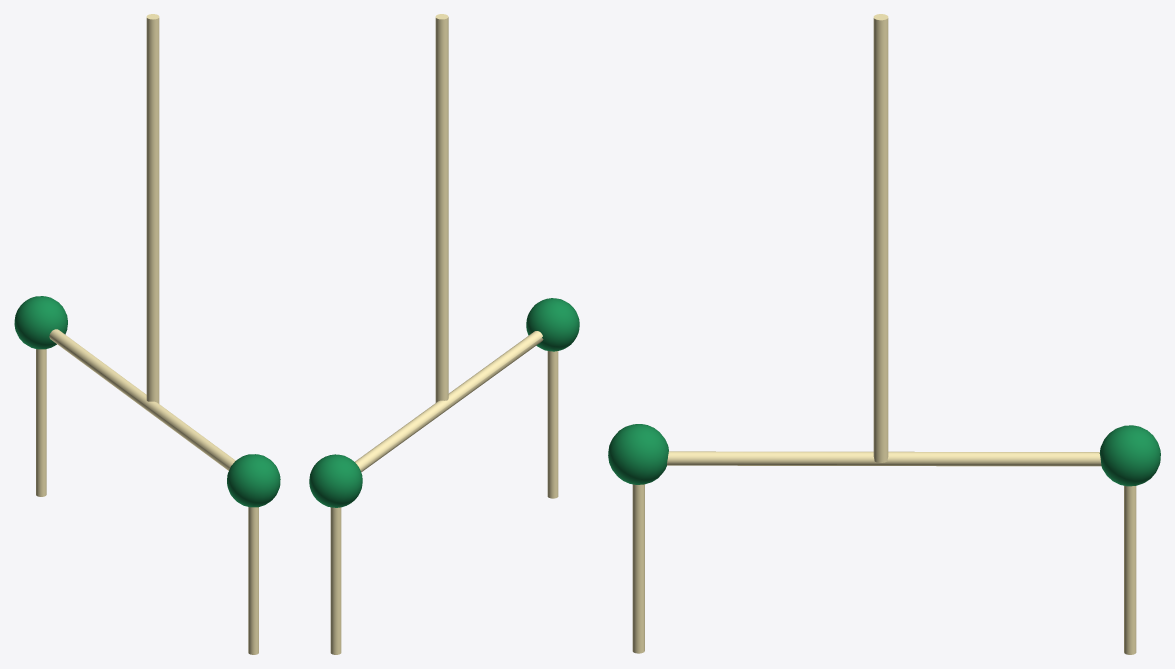
Rendered from jugueteAnclaje.obj.
3 renders of one model, left to right at view 1: azimuth 30°, elevation 25°; view 2: azimuth 150°, elevation 25°; view 3: azimuth 270°, elevation 25°, orthographic. The views are drawn at different scales.
Parts seen in each view (by area): view 1: polySurface1; view 2: polySurface1; view 3: polySurface1.
Boxes of the visible parts, left/top/right/bottom form: polySurface1: left=14, top=14, right=280, bottom=654; polySurface1: left=309, top=14, right=579, bottom=654; polySurface1: left=608, top=14, right=1160, bottom=654.
Size of the model in its own units: 0.2648 by 2.88 by 2.27.
